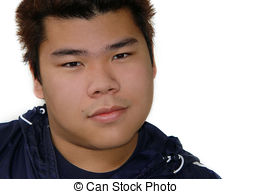face: (19, 1, 166, 156)
